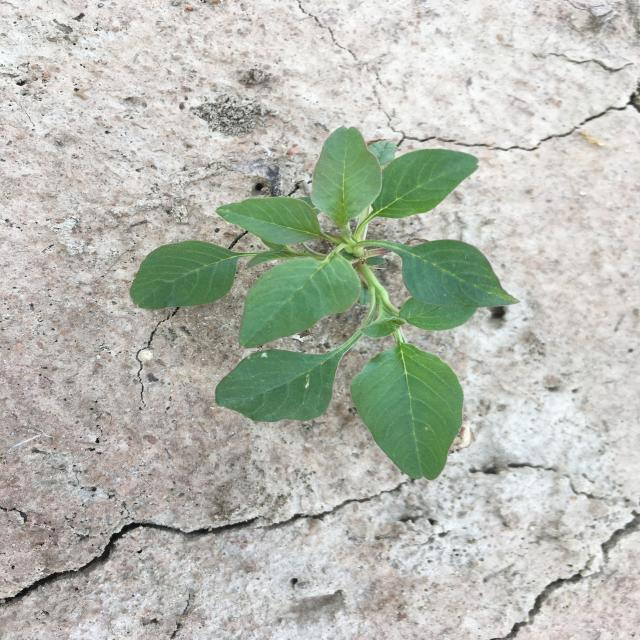PalmerAmaranth: (129, 127, 522, 480)
